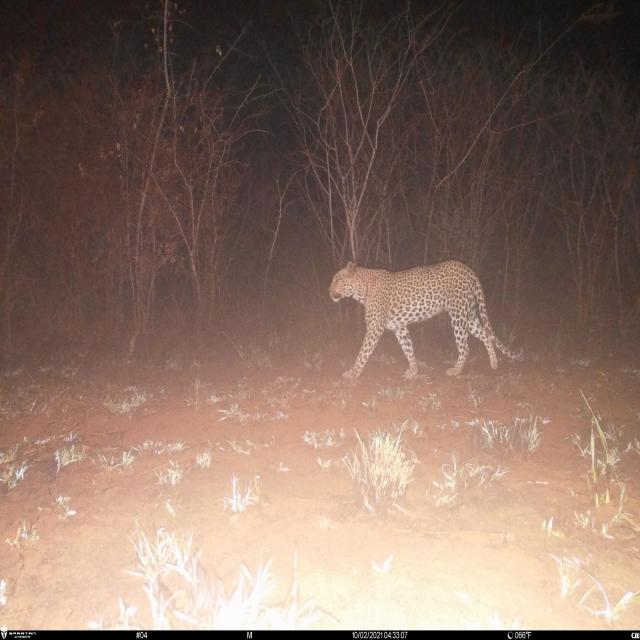Leopard: (322, 248, 532, 393)
